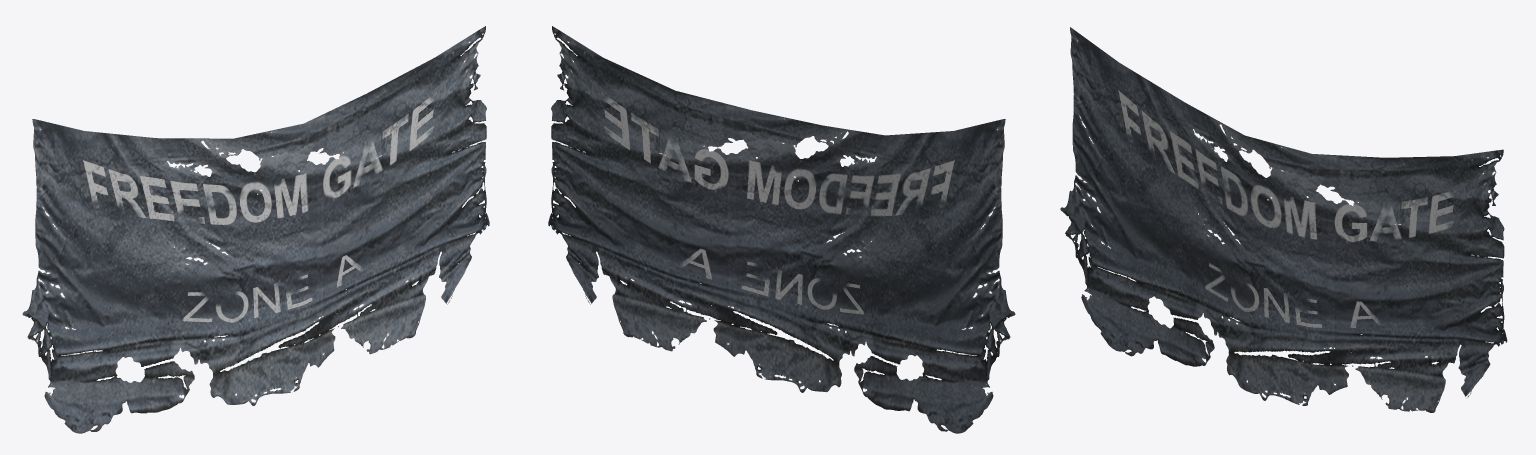
The model's file is Prop_Flag_Gate.FBX.
3 views of the same model, side by side, from view 1: azimuth 30°, elevation 25°; view 2: azimuth 150°, elevation 25°; view 3: azimuth 330°, elevation 25° (orthographic). The views are drawn at different scales.
Visible parts, largest first — view 1: Prop_Flag_Gate; view 2: Prop_Flag_Gate; view 3: Prop_Flag_Gate.
Part boxes in pixels (box(x1,y1,x2,y2)): Prop_Flag_Gate: box(22, 26, 489, 433); Prop_Flag_Gate: box(548, 26, 1015, 433); Prop_Flag_Gate: box(1060, 27, 1507, 412).
Size of the model in its own units: 10.15 by 7.25 by 0.3236.
